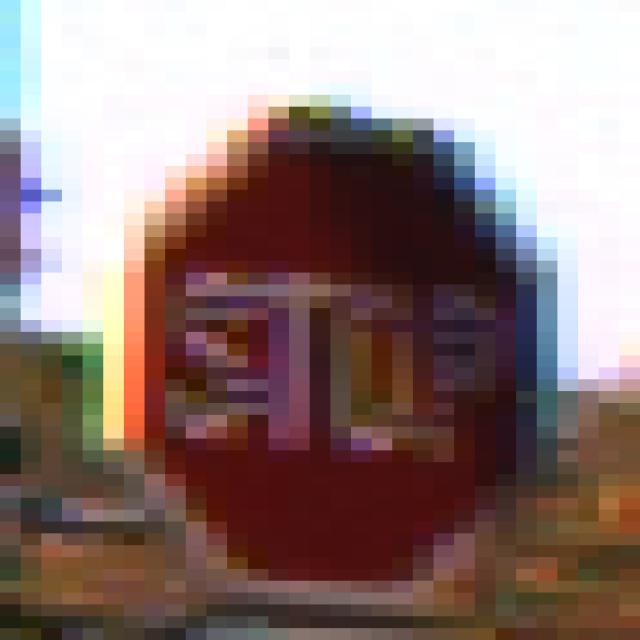STOP: (104, 72, 538, 570)
